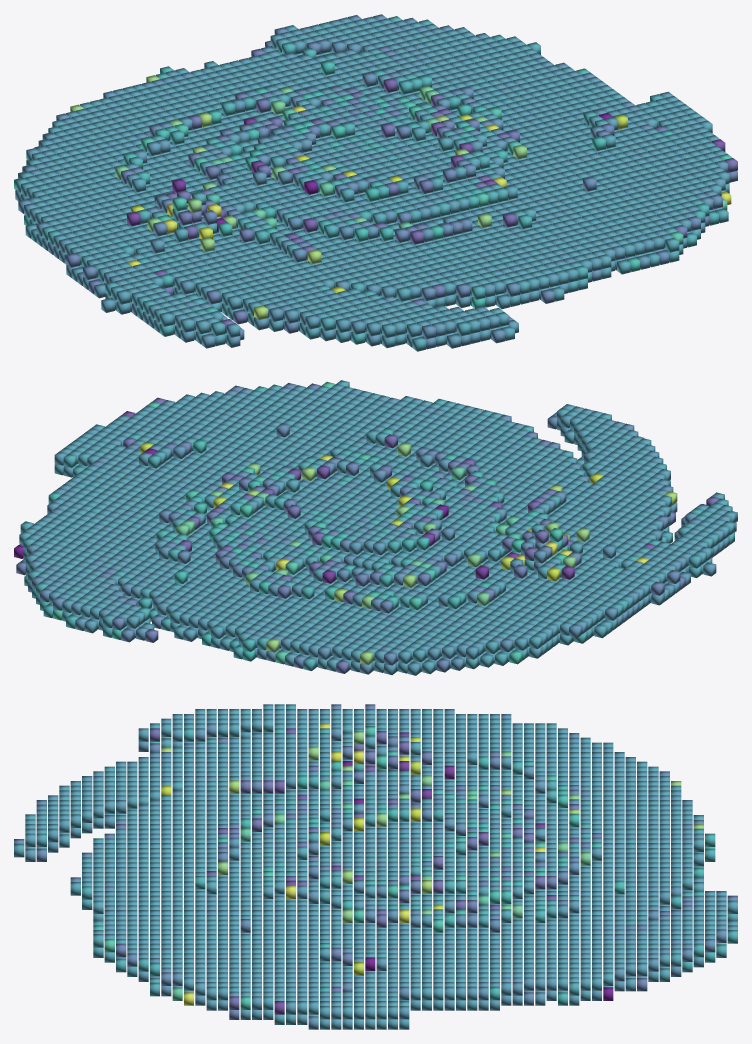
File: system_mass_B.gltf
3 renders of one model, top to bottom at view 1: azimuth 30°, elevation 25°; view 2: azimuth 150°, elevation 25°; view 3: azimuth 270°, elevation 25°, orthographic. The views are drawn at different scales.
Parts seen in each view (by area): view 1: Renderer Node; view 2: Renderer Node; view 3: Renderer Node.
Part boxes in pixels (bbox=[...]): Renderer Node: bbox=[14, 14, 737, 351]; Renderer Node: bbox=[14, 380, 737, 675]; Renderer Node: bbox=[14, 704, 737, 1029].
Size of the model in its own units: 83072 by 10112 by 81792.
